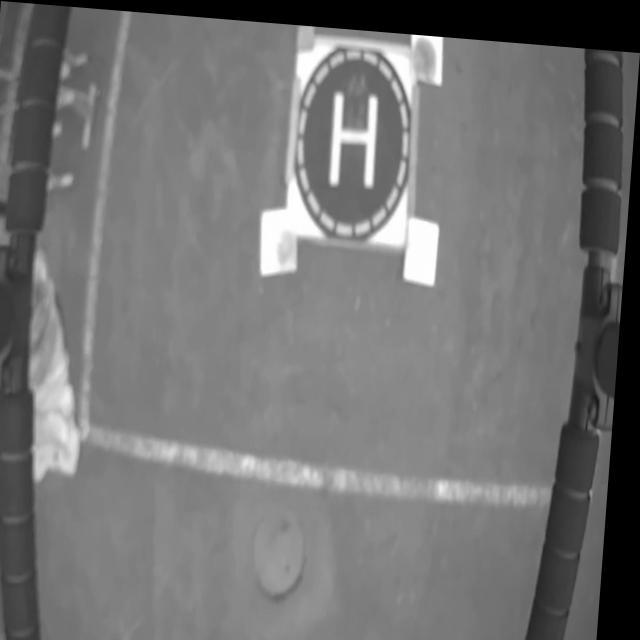Helipad: (329, 82, 380, 182)
